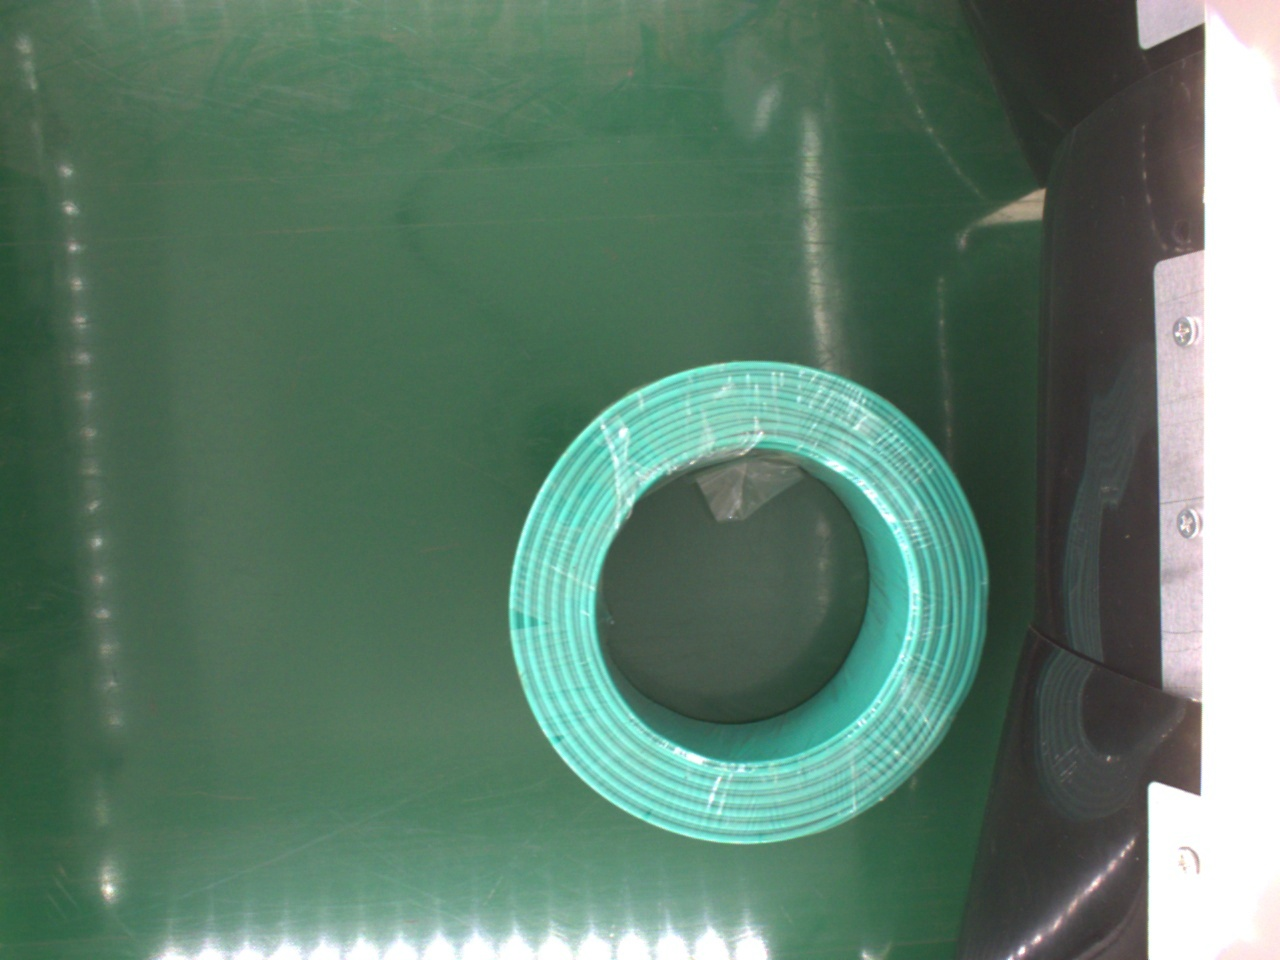green: (499, 361, 991, 848)
